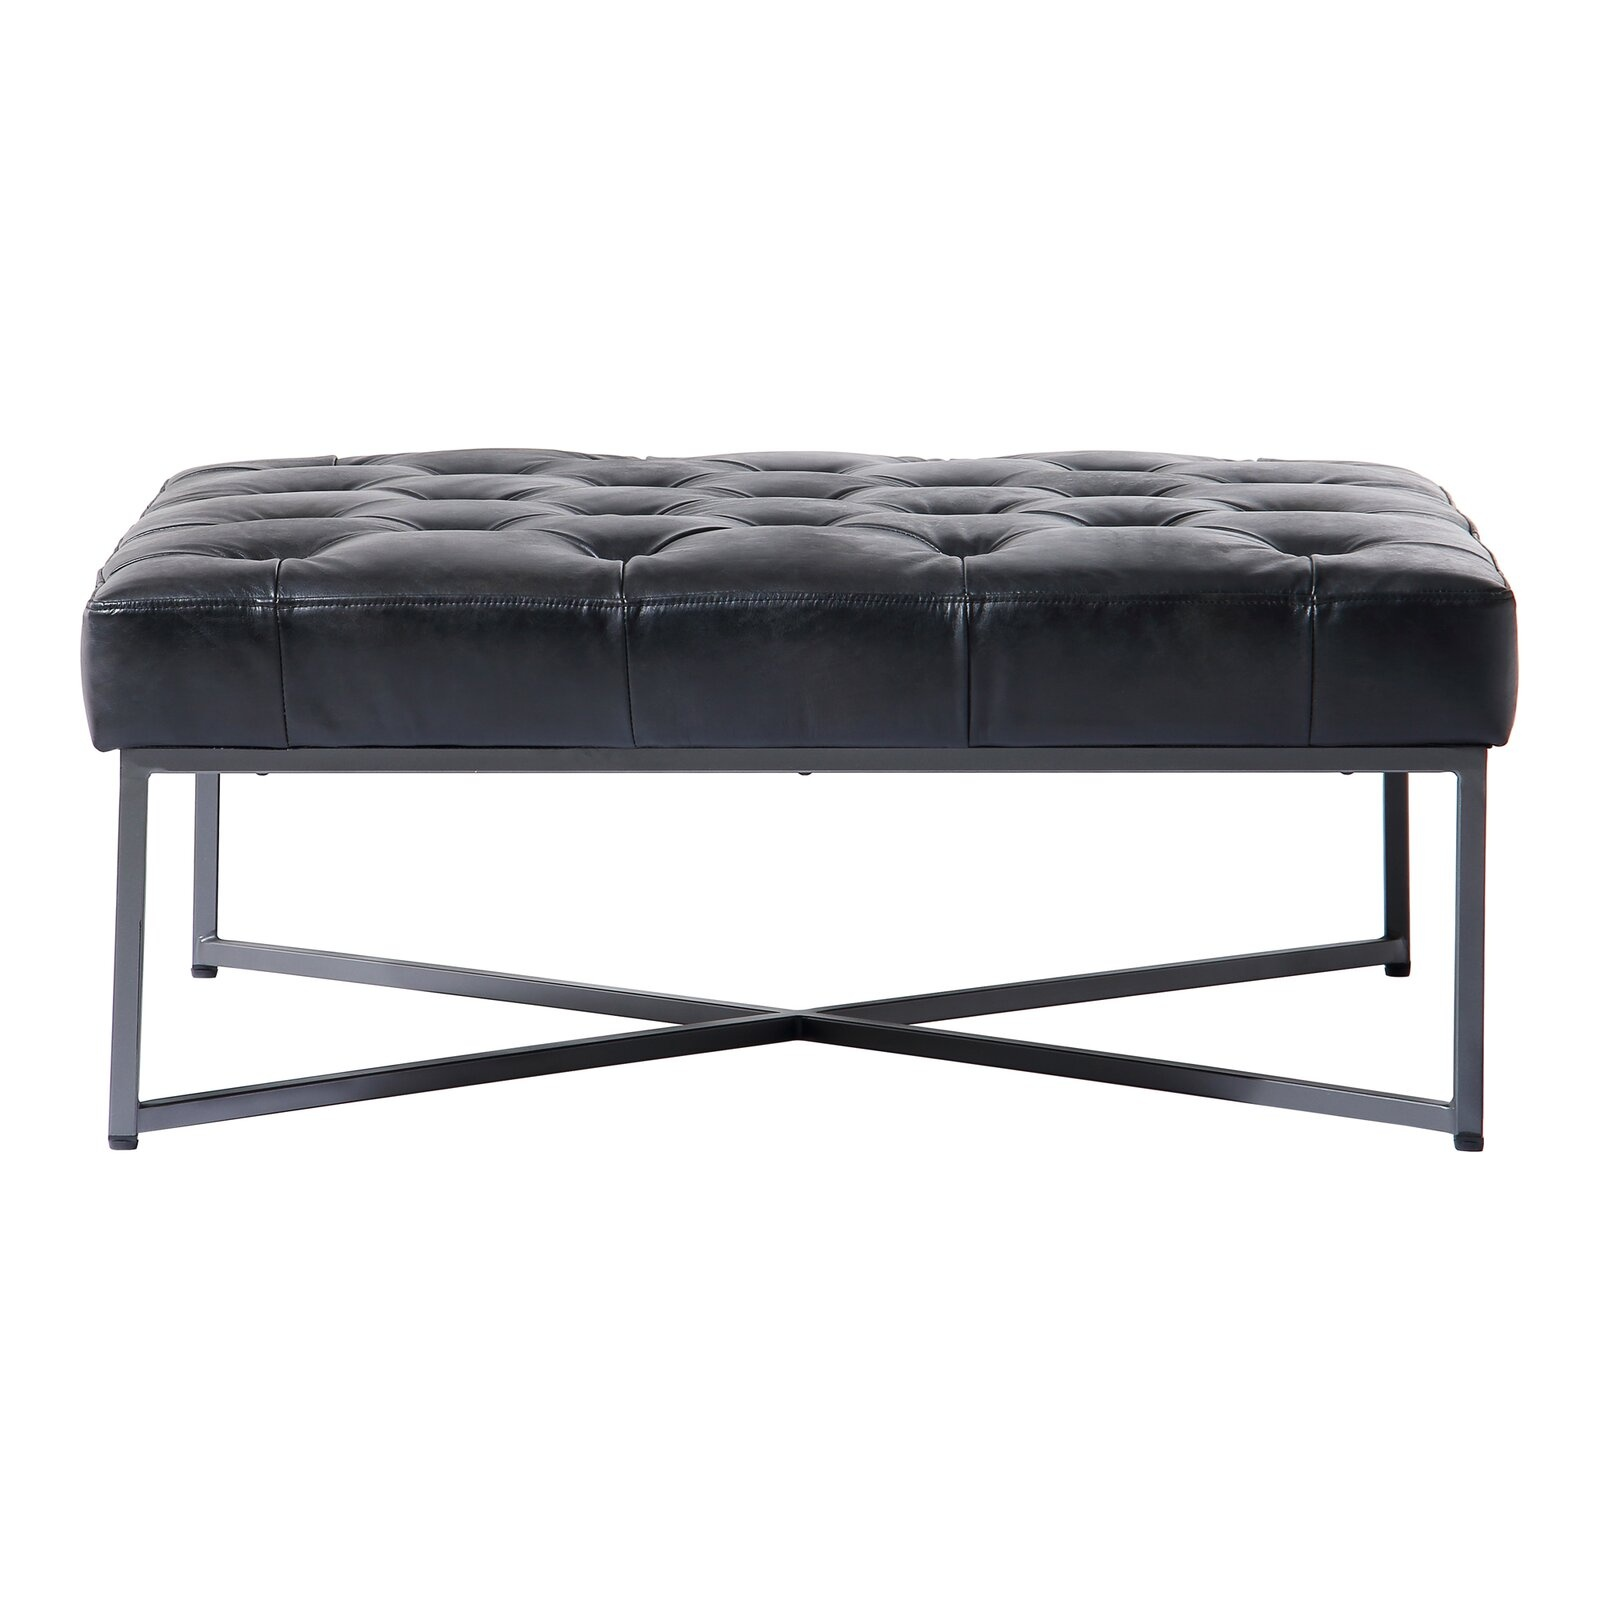obstacle: (82, 448, 1516, 1150)
